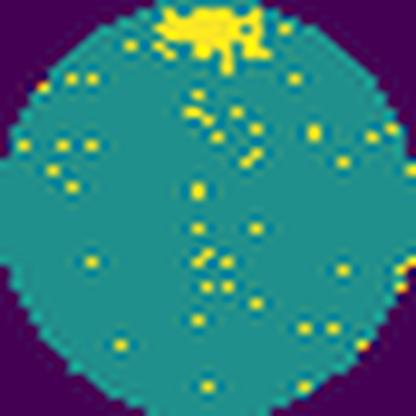Loc: (153, 4, 272, 75)
